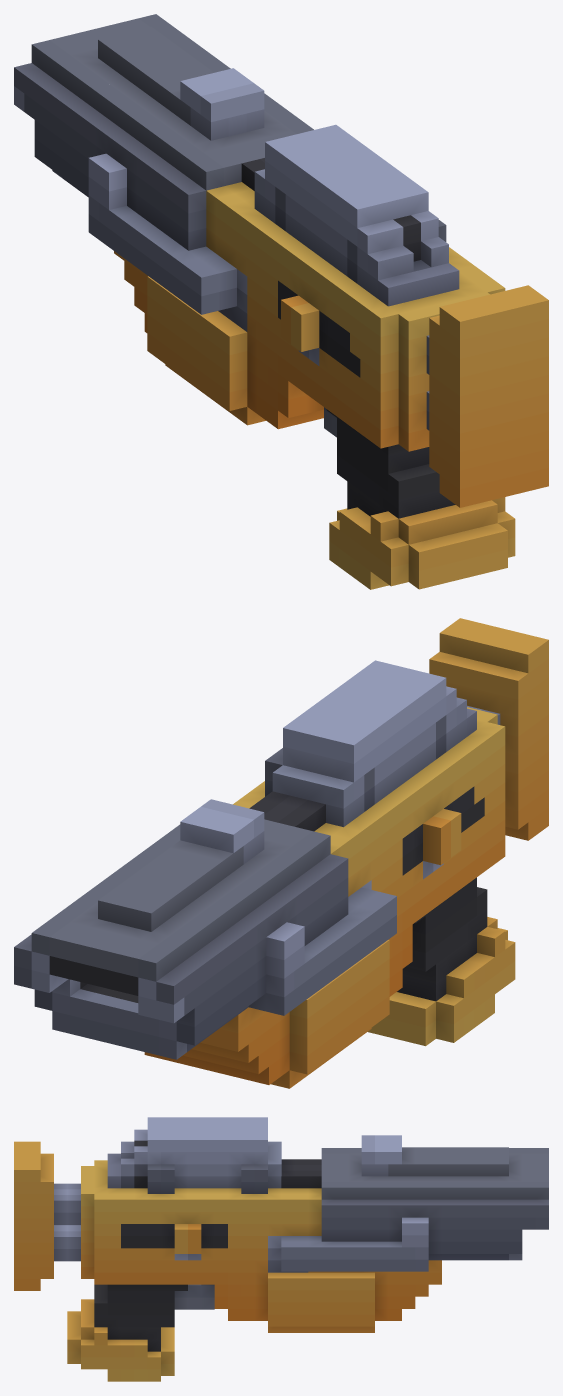
File: blaster_g.glb
3 views of the same model, one above another, from view 1: azimuth 30°, elevation 25°; view 2: azimuth 150°, elevation 25°; view 3: azimuth 270°, elevation 25° (orthographic). The views are drawn at different scales.
Parts seen in each view (by area): view 1: voxels; view 2: voxels; view 3: voxels.
Part boxes in pixels (left/top/right/bottom): voxels: left=14, top=14, right=548, bottom=589; voxels: left=14, top=618, right=548, bottom=1088; voxels: left=14, top=1117, right=548, bottom=1381.
Bounding box in the file's own units: 0.2188 × 0.3778 × 0.7953.
